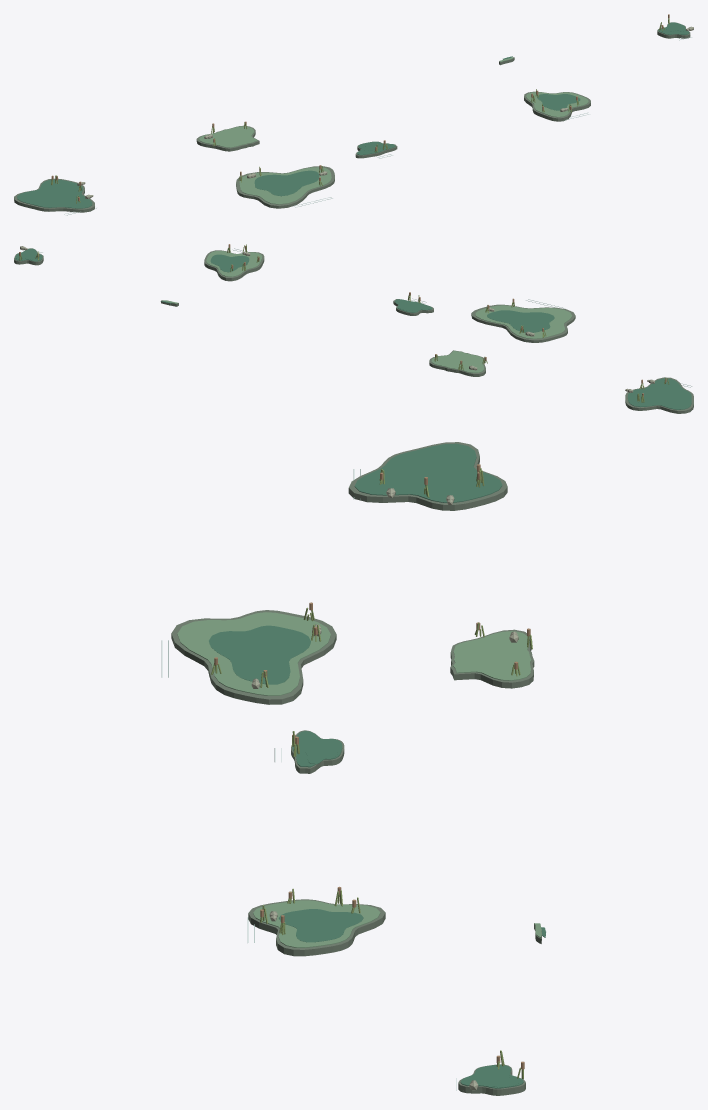
File: boardwalks_landscape_reexport_v1.glb
The picture shows the model from 3 angles, top to bottom: view 1: azimuth 30°, elevation 25°; view 2: azimuth 150°, elevation 25°; view 3: azimuth 270°, elevation 25°; orthographic projection. The views are drawn at different scales.
Visible parts, largest first — view 1: REFINED_BATCH_LANDSCAPE_REFINED_deep_moss_SOURCE_COPY, REFINED_BATCH_LANDSCAPE_REFINED_meadow_SOURCE_COPY, REFINED_BATCH_LANDSCAPE_REFINED_earth_bank_SOURCE_COPY, REFINED_BATCH_LANDSCAPE_REFINED_reed_leaf_SOURCE_COPY; view 2: REFINED_BATCH_LANDSCAPE_REFINED_deep_moss_SOURCE_COPY, REFINED_BATCH_LANDSCAPE_REFINED_meadow_SOURCE_COPY, REFINED_BATCH_LANDSCAPE_REFINED_earth_bank_SOURCE_COPY, REFINED_BATCH_LANDSCAPE_REFINED_reed_leaf_SOURCE_COPY; view 3: REFINED_BATCH_LANDSCAPE_REFINED_deep_moss_SOURCE_COPY, REFINED_BATCH_LANDSCAPE_REFINED_meadow_SOURCE_COPY, REFINED_BATCH_LANDSCAPE_REFINED_earth_bank_SOURCE_COPY, REFINED_BATCH_LANDSCAPE_REFINED_reed_leaf_SOURCE_COPY.
Part boxes in pixels (box(x1,y1,x2,y2)): REFINED_BATCH_LANDSCAPE_REFINED_deep_moss_SOURCE_COPY: box(17, 22, 689, 208); REFINED_BATCH_LANDSCAPE_REFINED_meadow_SOURCE_COPY: box(199, 57, 588, 204); REFINED_BATCH_LANDSCAPE_REFINED_earth_bank_SOURCE_COPY: box(14, 22, 690, 212); REFINED_BATCH_LANDSCAPE_REFINED_reed_leaf_SOURCE_COPY: box(51, 18, 669, 203); REFINED_BATCH_LANDSCAPE_REFINED_deep_moss_SOURCE_COPY: box(15, 248, 691, 409); REFINED_BATCH_LANDSCAPE_REFINED_meadow_SOURCE_COPY: box(162, 250, 571, 372); REFINED_BATCH_LANDSCAPE_REFINED_earth_bank_SOURCE_COPY: box(14, 248, 693, 413); REFINED_BATCH_LANDSCAPE_REFINED_reed_leaf_SOURCE_COPY: box(19, 244, 669, 402); REFINED_BATCH_LANDSCAPE_REFINED_deep_moss_SOURCE_COPY: box(209, 443, 545, 1088); REFINED_BATCH_LANDSCAPE_REFINED_meadow_SOURCE_COPY: box(177, 612, 541, 947); REFINED_BATCH_LANDSCAPE_REFINED_earth_bank_SOURCE_COPY: box(171, 442, 541, 1095); REFINED_BATCH_LANDSCAPE_REFINED_reed_leaf_SOURCE_COPY: box(211, 468, 532, 1079).
Size of the model in its own units: 36.71 by 0.6586 by 9.17.
